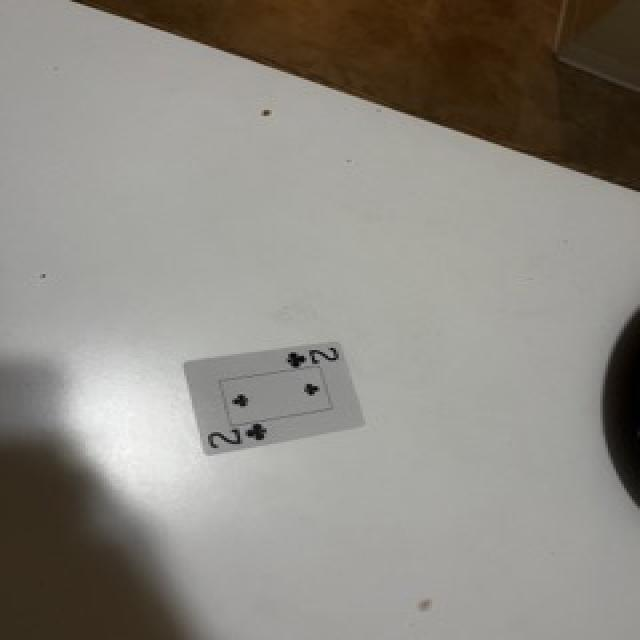2 of clubs: (186, 342, 363, 454)
